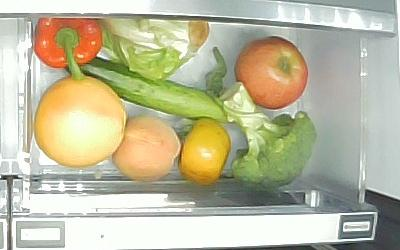apple: (235, 36, 310, 110)
broccoli: (218, 82, 318, 187)
cucumber: (64, 56, 232, 125)
grapefruit: (35, 76, 126, 167)
lettuce: (104, 18, 209, 79)
paprika: (34, 18, 103, 80)
peach: (113, 116, 180, 182)
persimmon: (180, 118, 231, 187)
